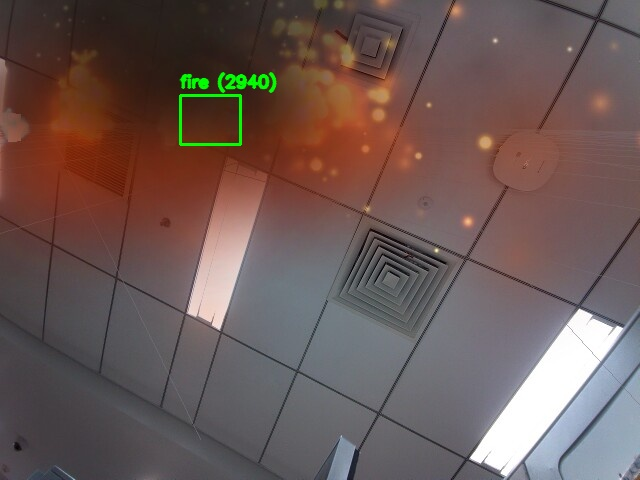fire: (180, 95, 240, 144)
